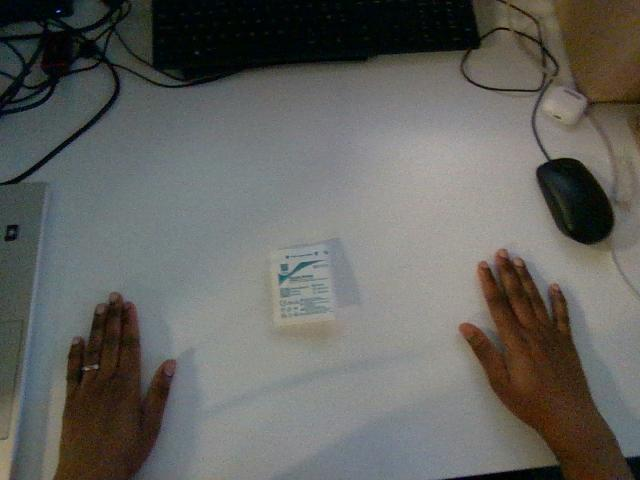gauze: (270, 243, 334, 326)
